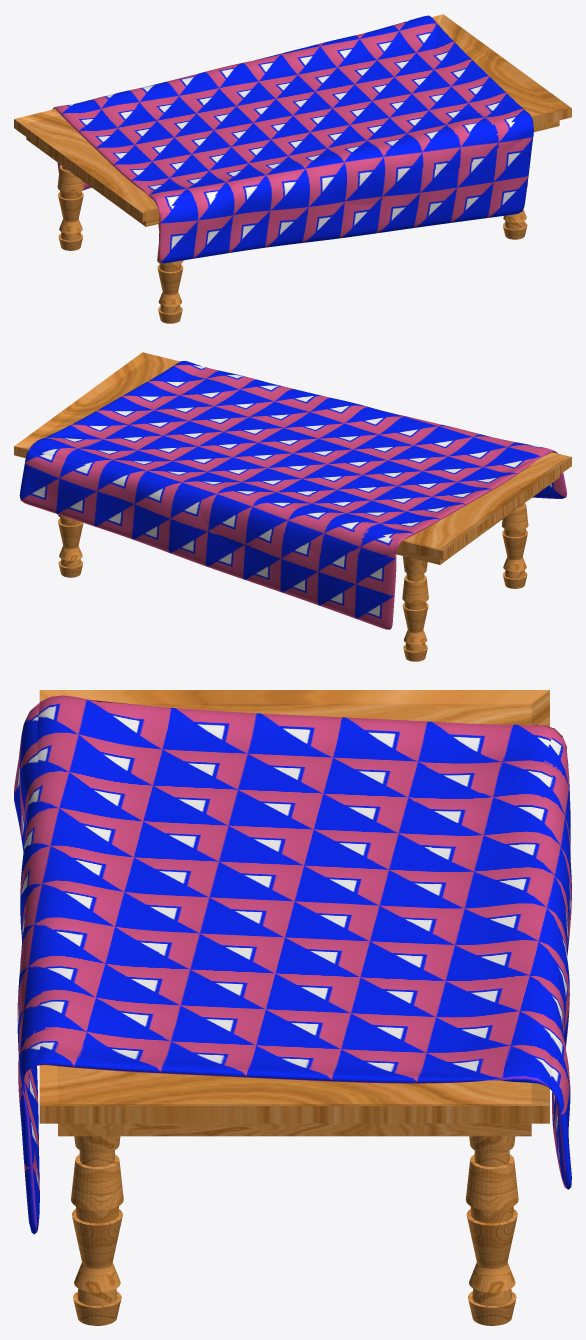
Rendered from DiningTable.fbx.
3 renders of one model, top to bottom at view 1: azimuth 30°, elevation 25°; view 2: azimuth 150°, elevation 25°; view 3: azimuth 270°, elevation 25°, orthographic. The views are drawn at different scales.
Parts seen in each view (by area): view 1: Plane; view 2: Plane; view 3: Plane.
Part boxes in pixels (left/top/right/bottom): Plane: left=14, top=14, right=571, bottom=323; Plane: left=14, top=352, right=571, bottom=661; Plane: left=14, top=690, right=571, bottom=1325.
Bounding box in the file's own units: 1246 × 371 × 707.
